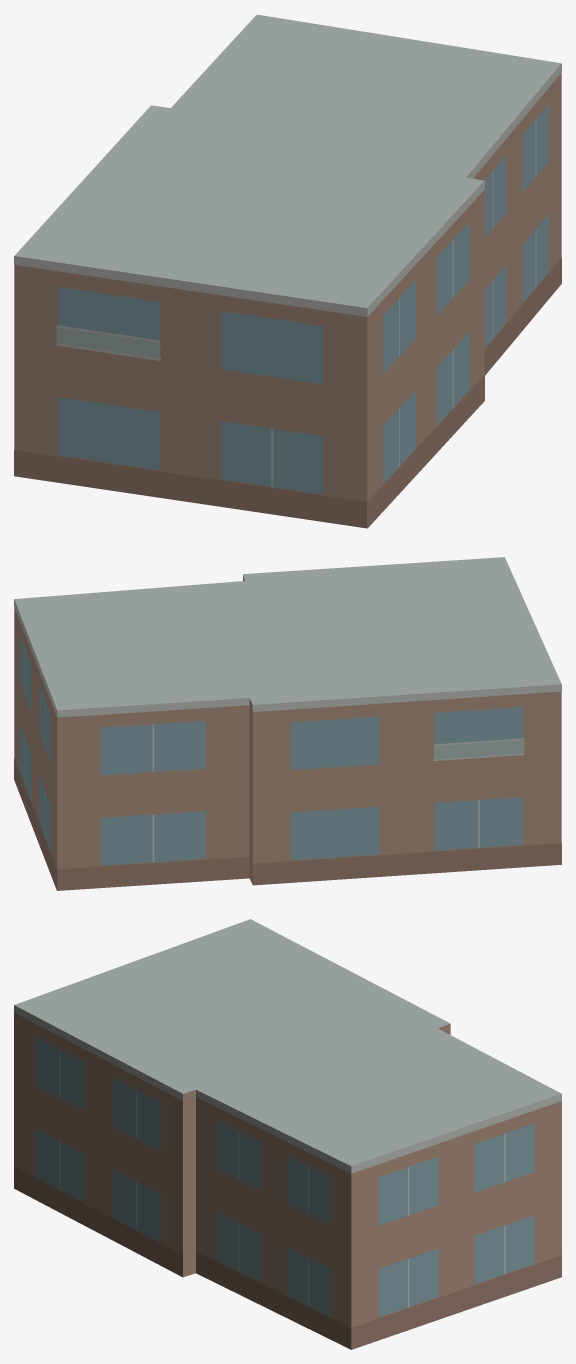
File: survey-upis-32639257.glb
The picture shows the model from 3 angles, top to bottom: view 1: azimuth 30°, elevation 25°; view 2: azimuth 150°, elevation 25°; view 3: azimuth 270°, elevation 25°; orthographic projection. The views are drawn at different scales.
Parts seen in each view (by area): view 1: survey-upis-32639257.tmp; view 2: survey-upis-32639257.tmp; view 3: survey-upis-32639257.tmp.
Part boxes in pixels (x1,y1,x2,y2): survey-upis-32639257.tmp: [14, 14, 561, 528]; survey-upis-32639257.tmp: [14, 557, 561, 890]; survey-upis-32639257.tmp: [14, 919, 561, 1349].
Bounding box in the file's own units: 17.64 × 6.1 × 16.51.
